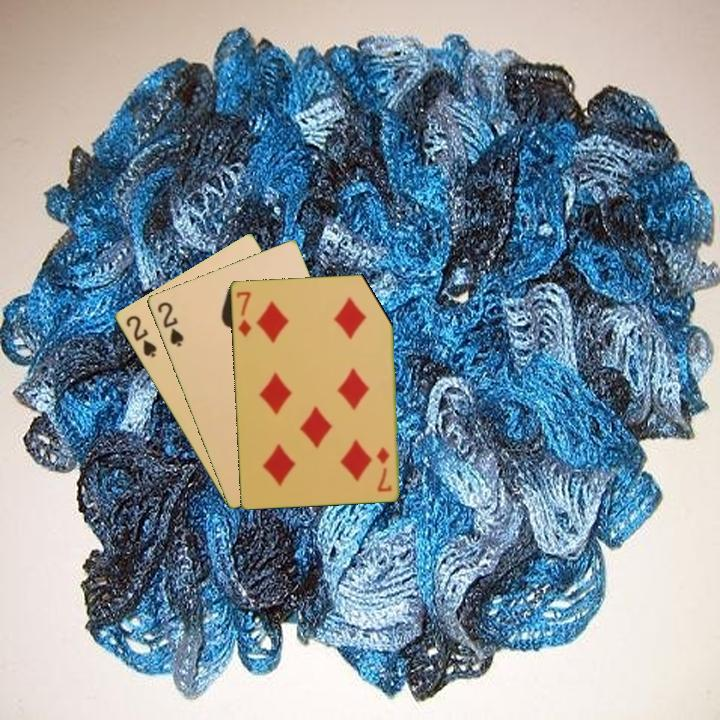2s: (122, 312, 159, 361), (153, 298, 186, 350)
7d: (232, 287, 254, 339), (373, 443, 394, 494)
